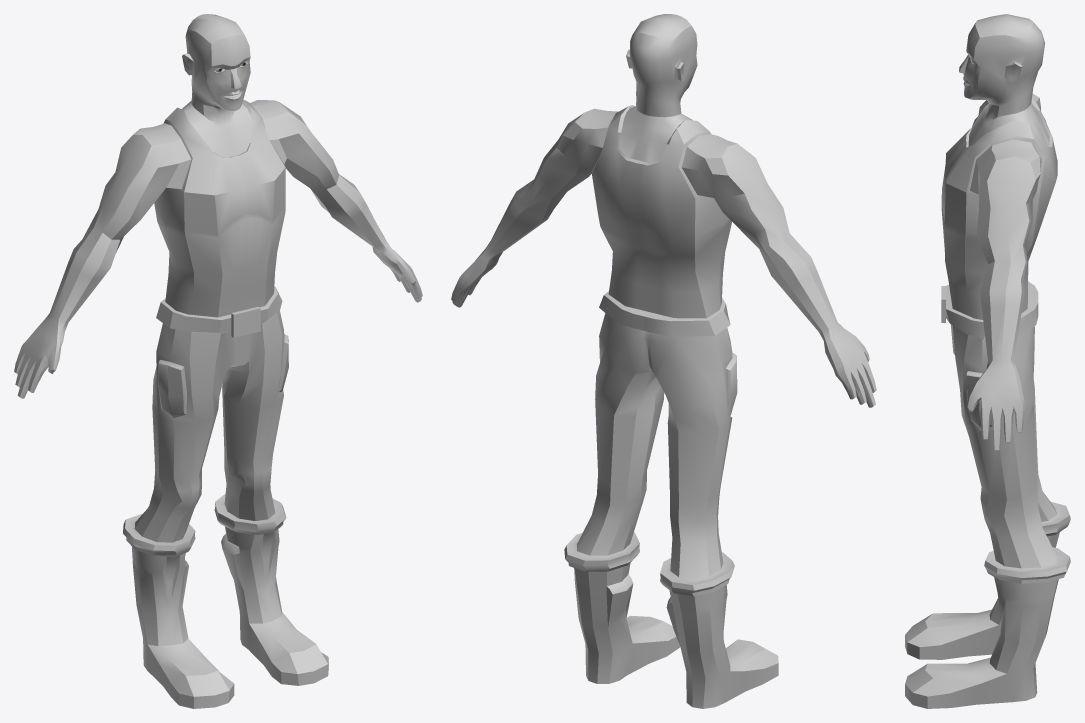
File: The_dud_mainch.fbx
3 views of the same model, side by side, from view 1: azimuth 30°, elevation 25°; view 2: azimuth 150°, elevation 25°; view 3: azimuth 270°, elevation 25° (orthographic). The views are drawn at different scales.
Visible parts, largest first — view 1: Cube.009; view 2: Cube.009; view 3: Cube.009.
Part boxes in pixels (x1=…): Cube.009: x1=14, y1=14, x2=422, y2=708; Cube.009: x1=451, y1=14, x2=876, y2=708; Cube.009: x1=905, y1=14, x2=1070, y2=708.
Size of the model in its own units: 185 by 282 by 64.66.
